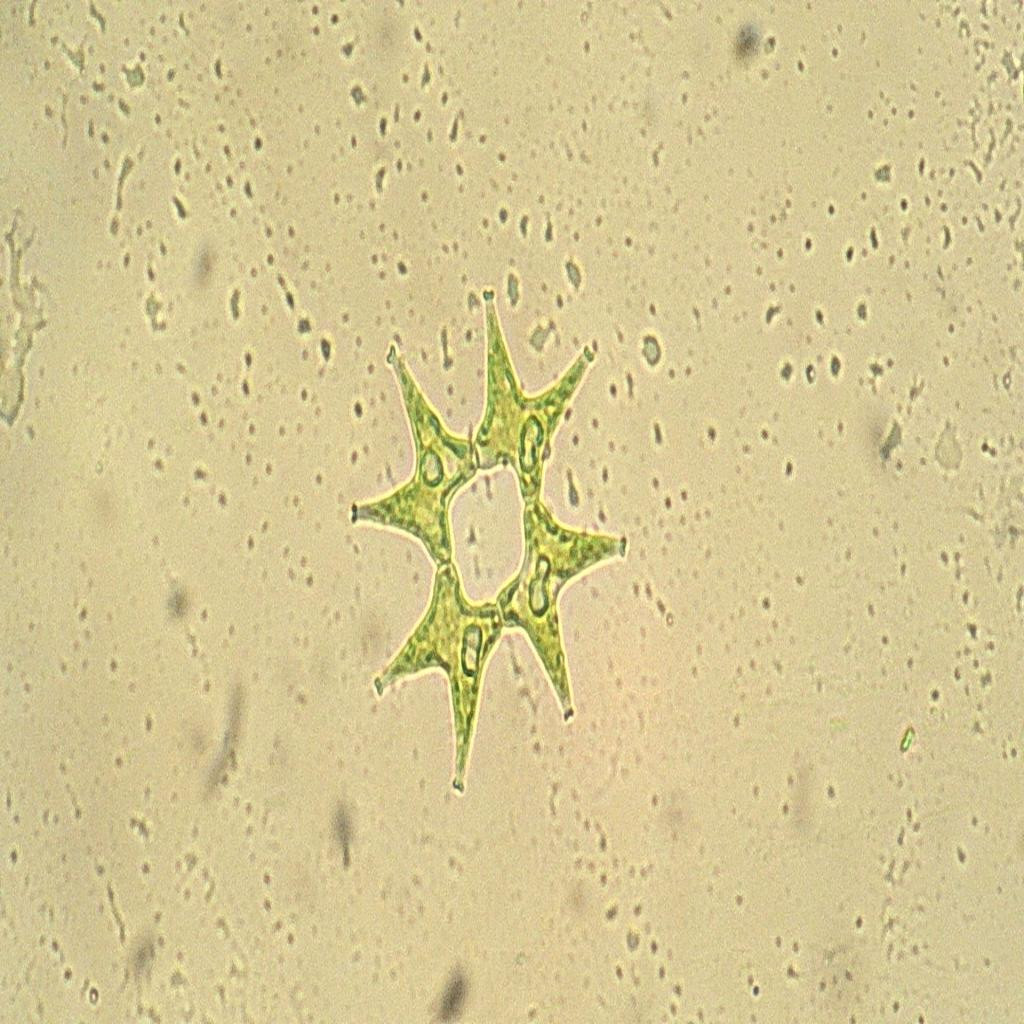Pediastrum_CO: (331, 255, 645, 809)
